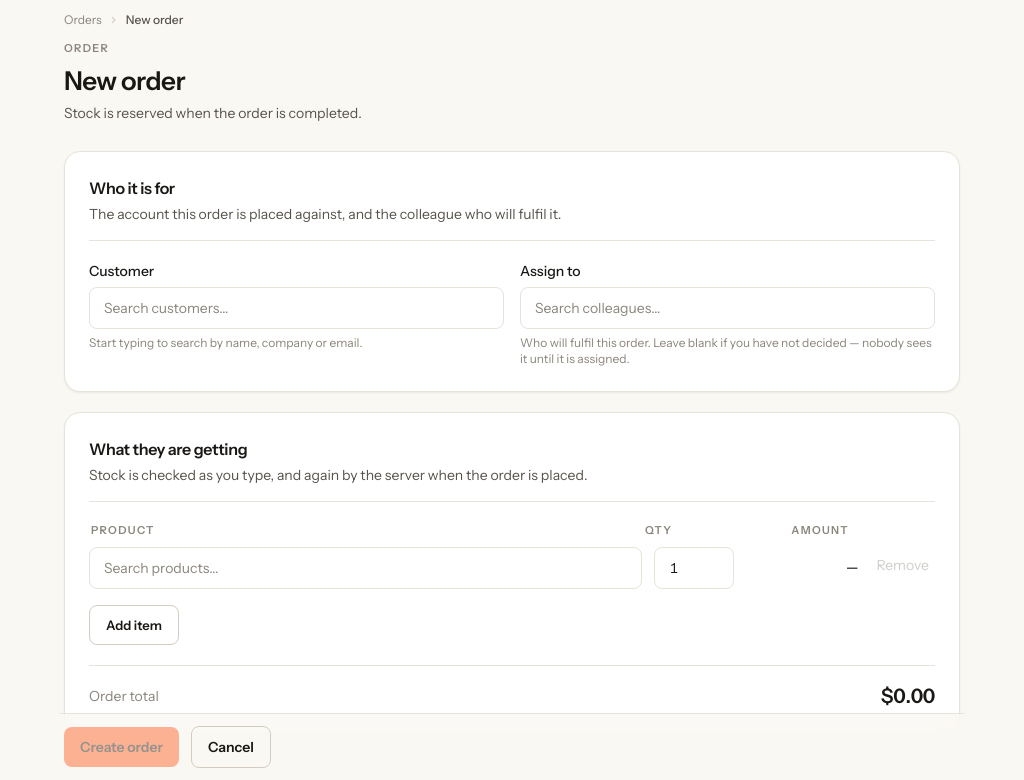
Test: OrderForm › warns before submitting when a line exceeds available stock
Type "karachi" into the dropdown labelled "Customer" at (296, 308), box [89,287,504,329]
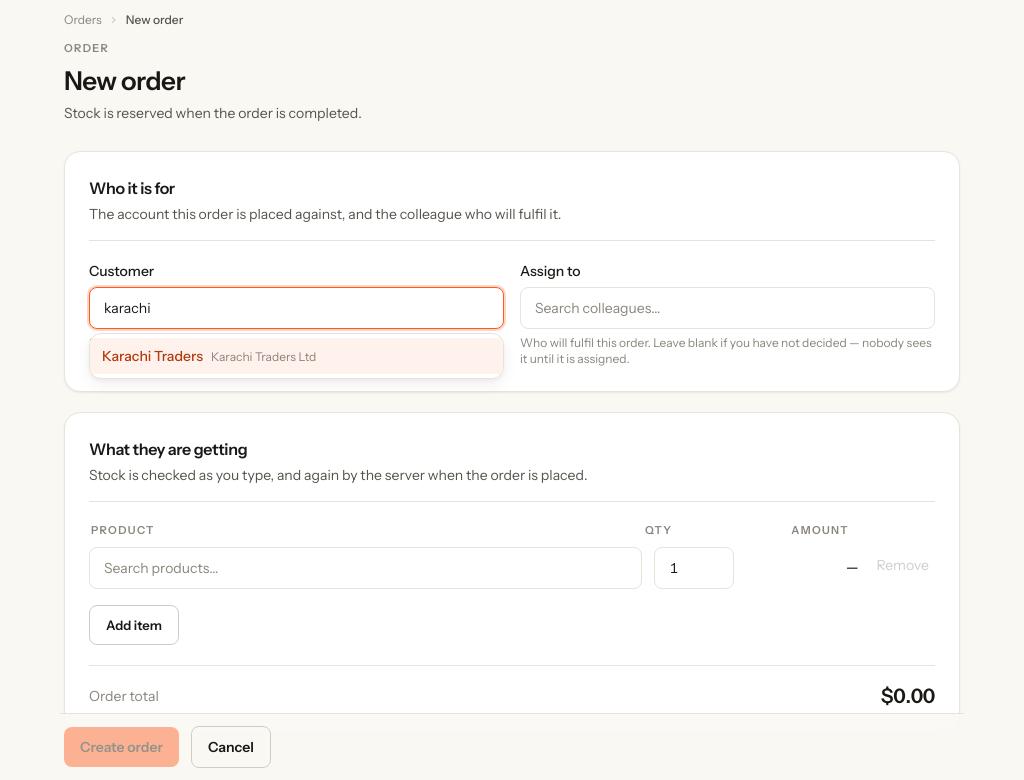
Click the option "Karachi Traders" at (296, 356), box [90,338,503,374]
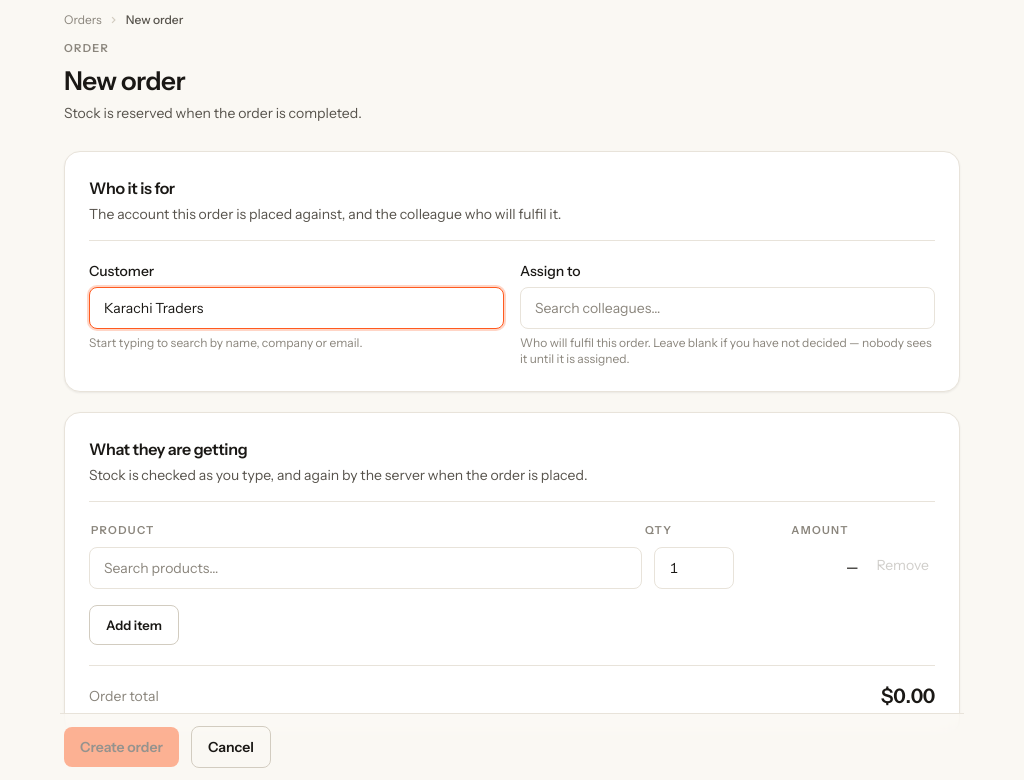
Type "widget" into the dropdown with placeholder "Search products…" at (366, 568), box [89,546,642,588]
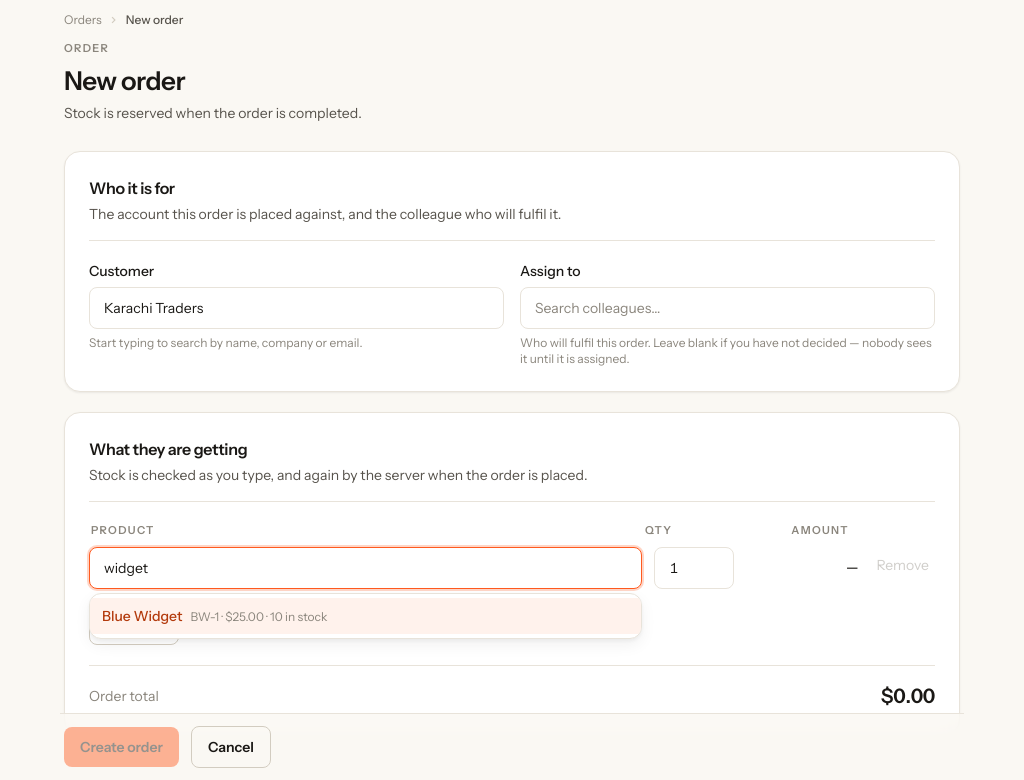
Click the option "Blue Widget" at (142, 616), box [90,598,641,634]
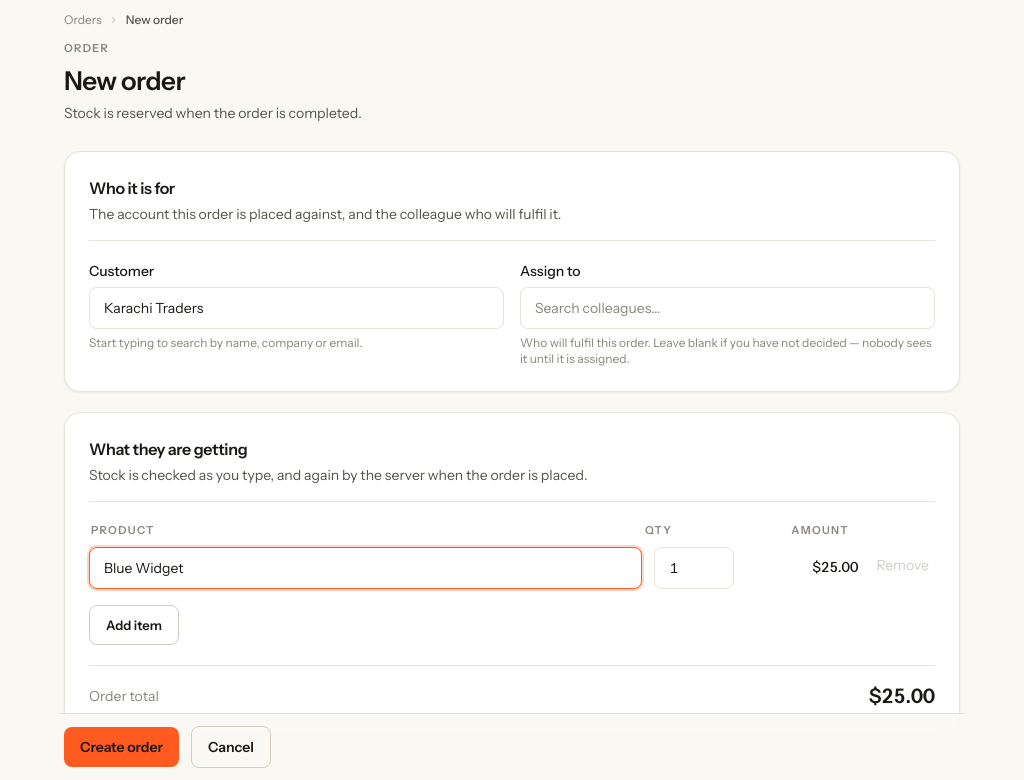
Replace the text in the number field with "99" at (694, 568), box [654,546,734,588]
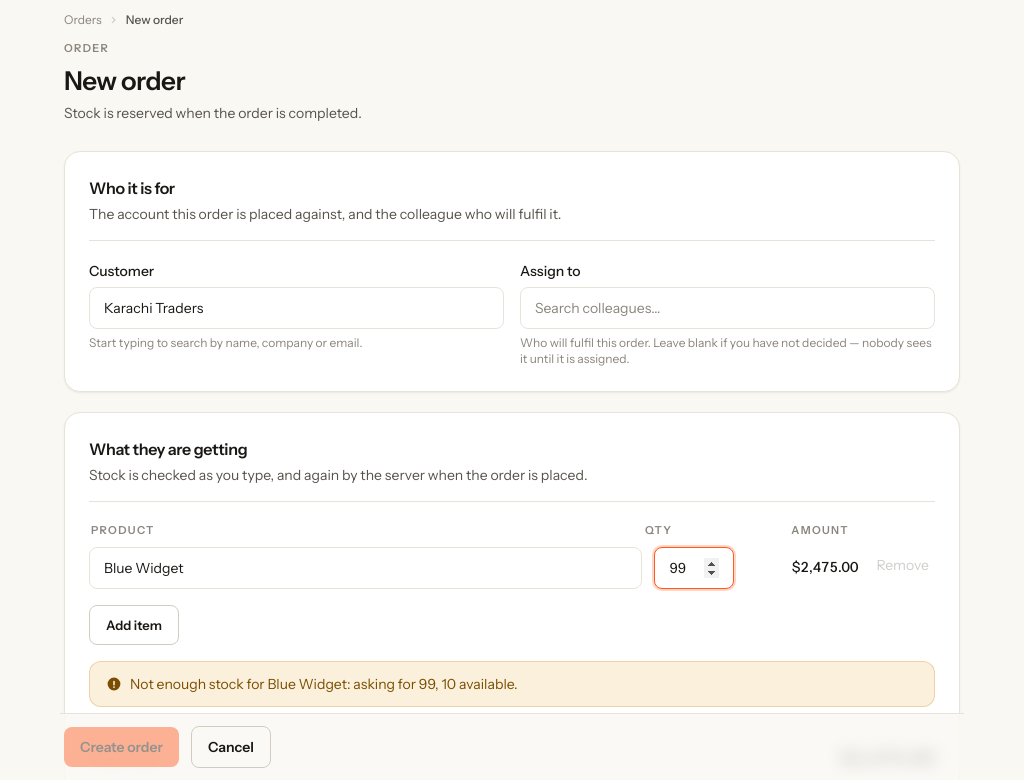
Check: the button "Create order" is disabled, box [64,727,179,767]
Check: the text "Not enough stock" is shown, box [130,675,518,693]
